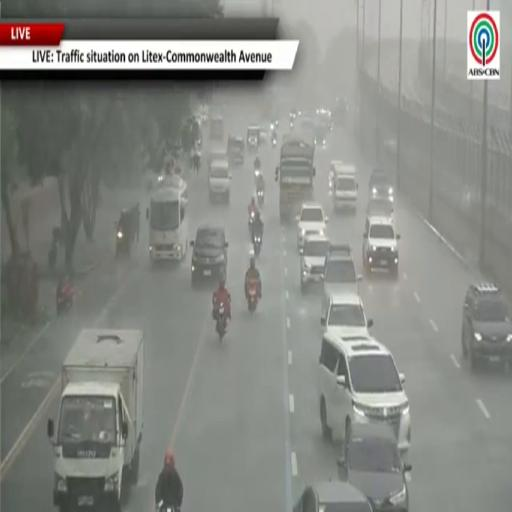bus: (147, 176, 188, 263)
car: (318, 333, 410, 453), (339, 424, 411, 511), (462, 283, 511, 370), (293, 480, 372, 511), (321, 292, 373, 337), (363, 217, 400, 277), (191, 226, 228, 285), (324, 244, 362, 296), (300, 234, 330, 292), (296, 202, 327, 248), (332, 164, 359, 214), (209, 160, 232, 203), (369, 169, 394, 201), (367, 198, 393, 220), (227, 136, 245, 166), (207, 147, 228, 171), (328, 160, 344, 190), (313, 121, 329, 148), (246, 125, 260, 152), (210, 116, 224, 141), (259, 127, 268, 146)
motorcycle: (56, 284, 74, 314), (116, 229, 130, 257), (216, 302, 226, 341), (248, 280, 257, 313), (157, 501, 179, 511), (252, 235, 262, 256), (248, 211, 255, 233), (257, 189, 264, 206), (272, 138, 277, 148)
truck: (47, 329, 144, 511), (276, 134, 315, 220)
